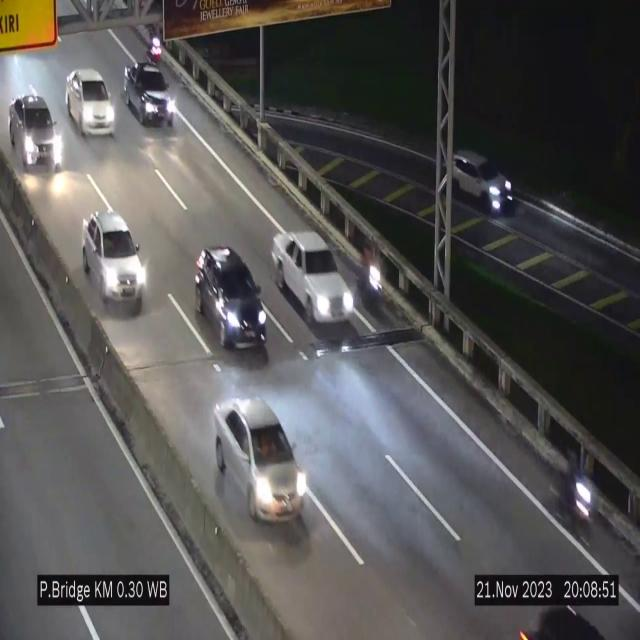Car: (211, 397, 307, 535), (272, 233, 358, 327), (194, 246, 267, 351), (82, 211, 147, 310), (446, 143, 518, 222), (5, 94, 69, 180), (66, 68, 115, 137), (123, 60, 174, 126)
Motorcycle: (561, 448, 597, 543), (362, 236, 388, 319), (140, 17, 168, 72)
